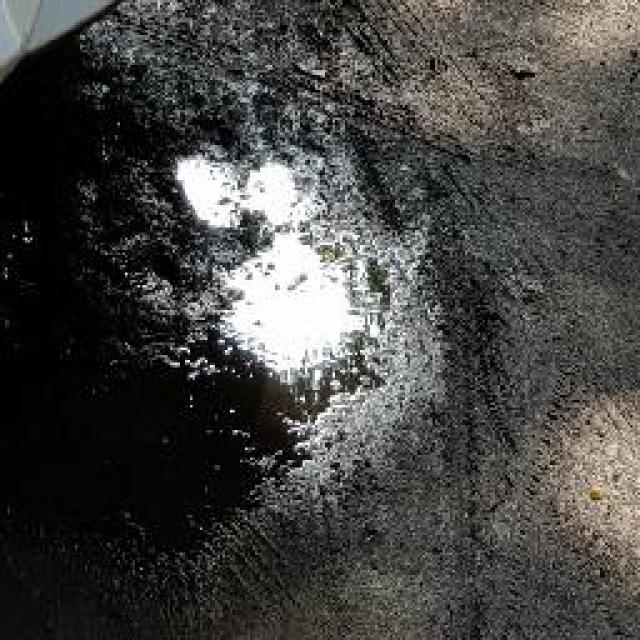waterlogging: (120, 122, 439, 495)
